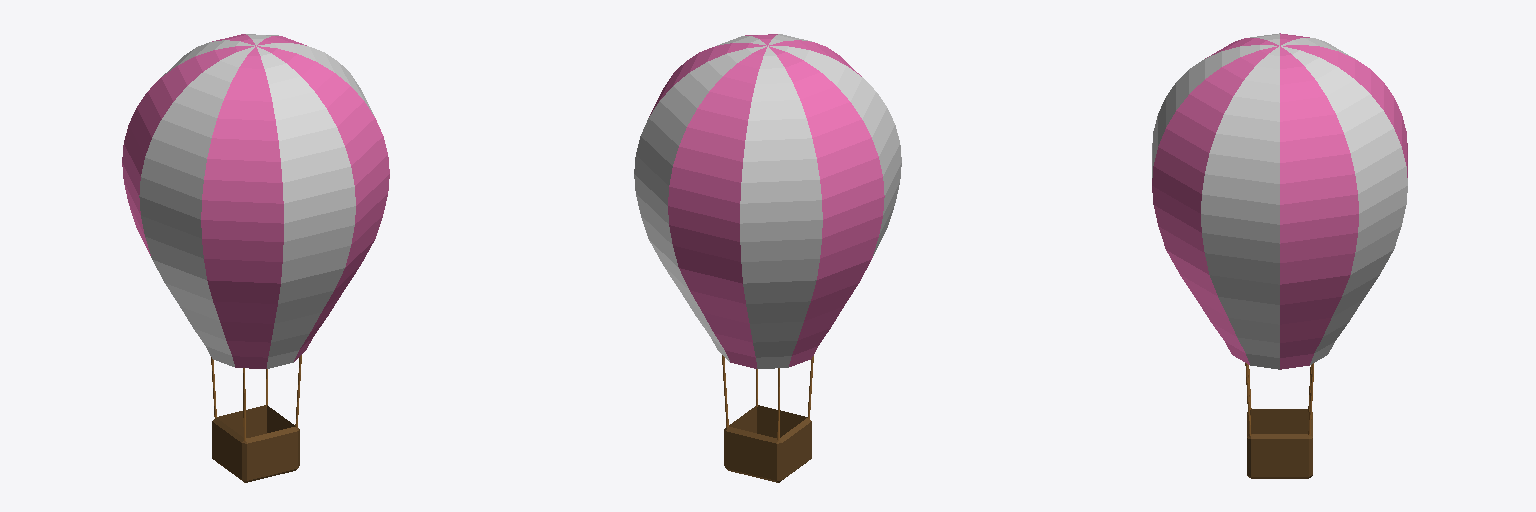
3 views of the same model, side by side, from view 1: azimuth 30°, elevation 25°; view 2: azimuth 150°, elevation 25°; view 3: azimuth 270°, elevation 25° (orthographic).
Parts seen in each view (by area): view 1: Basket1_lambert1_0; view 2: Basket1_lambert1_0; view 3: Basket1_lambert1_0.
Part boxes in pixels (left/top/right/bottom): Basket1_lambert1_0: left=122, top=34, right=389, bottom=482; Basket1_lambert1_0: left=634, top=34, right=901, bottom=482; Basket1_lambert1_0: left=1152, top=33, right=1407, bottom=478.
Size of the model in its own units: 13.52 by 23.27 by 12.86.
Materials: 1 (1 with a texture image).